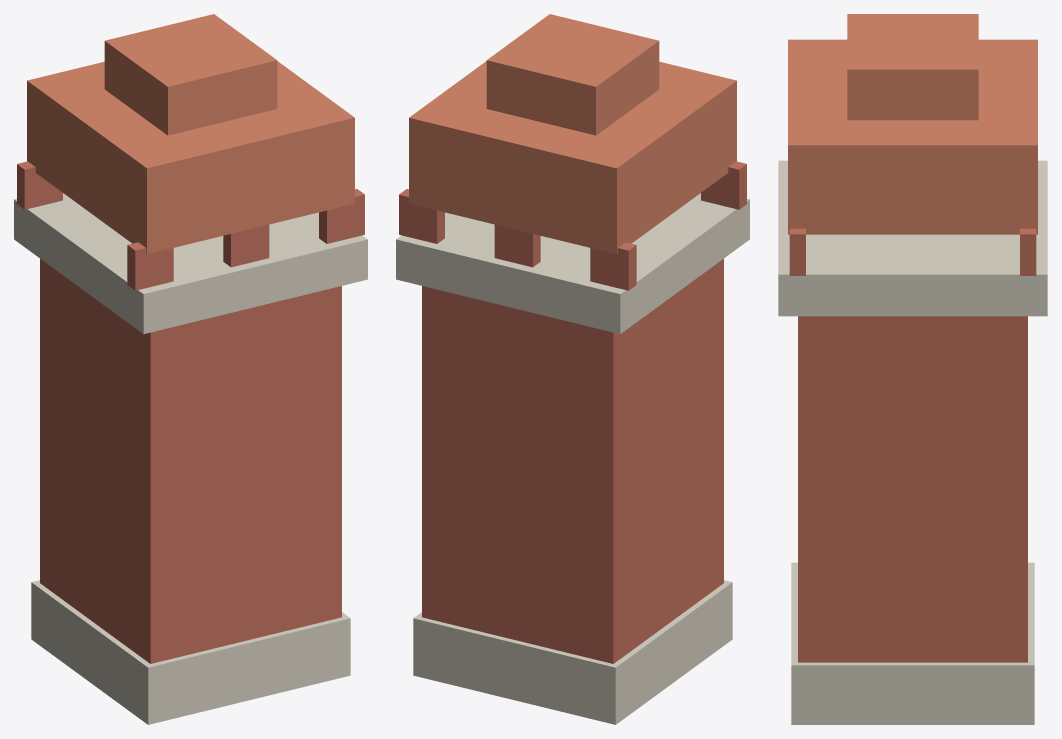
File: curtain_tower.glb
3 renders of one model, left to right at view 1: azimuth 30°, elevation 25°; view 2: azimuth 150°, elevation 25°; view 3: azimuth 270°, elevation 25°, orthographic. The views are drawn at different scales.
Visible parts, largest first — view 1: DefenseTower; view 2: DefenseTower; view 3: DefenseTower.
Part boxes in pixels (x1=…): DefenseTower: x1=14, y1=14, x2=367, y2=724; DefenseTower: x1=396, y1=14, x2=749, y2=724; DefenseTower: x1=778, y1=14, x2=1047, y2=724.
Bounding box in the file's own units: 8.4 × 21.2 × 8.2.
